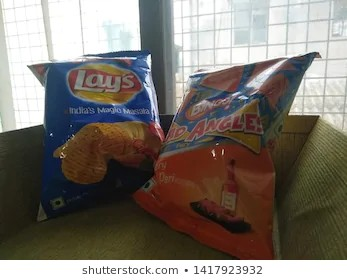lays-small: (29, 47, 156, 225)
